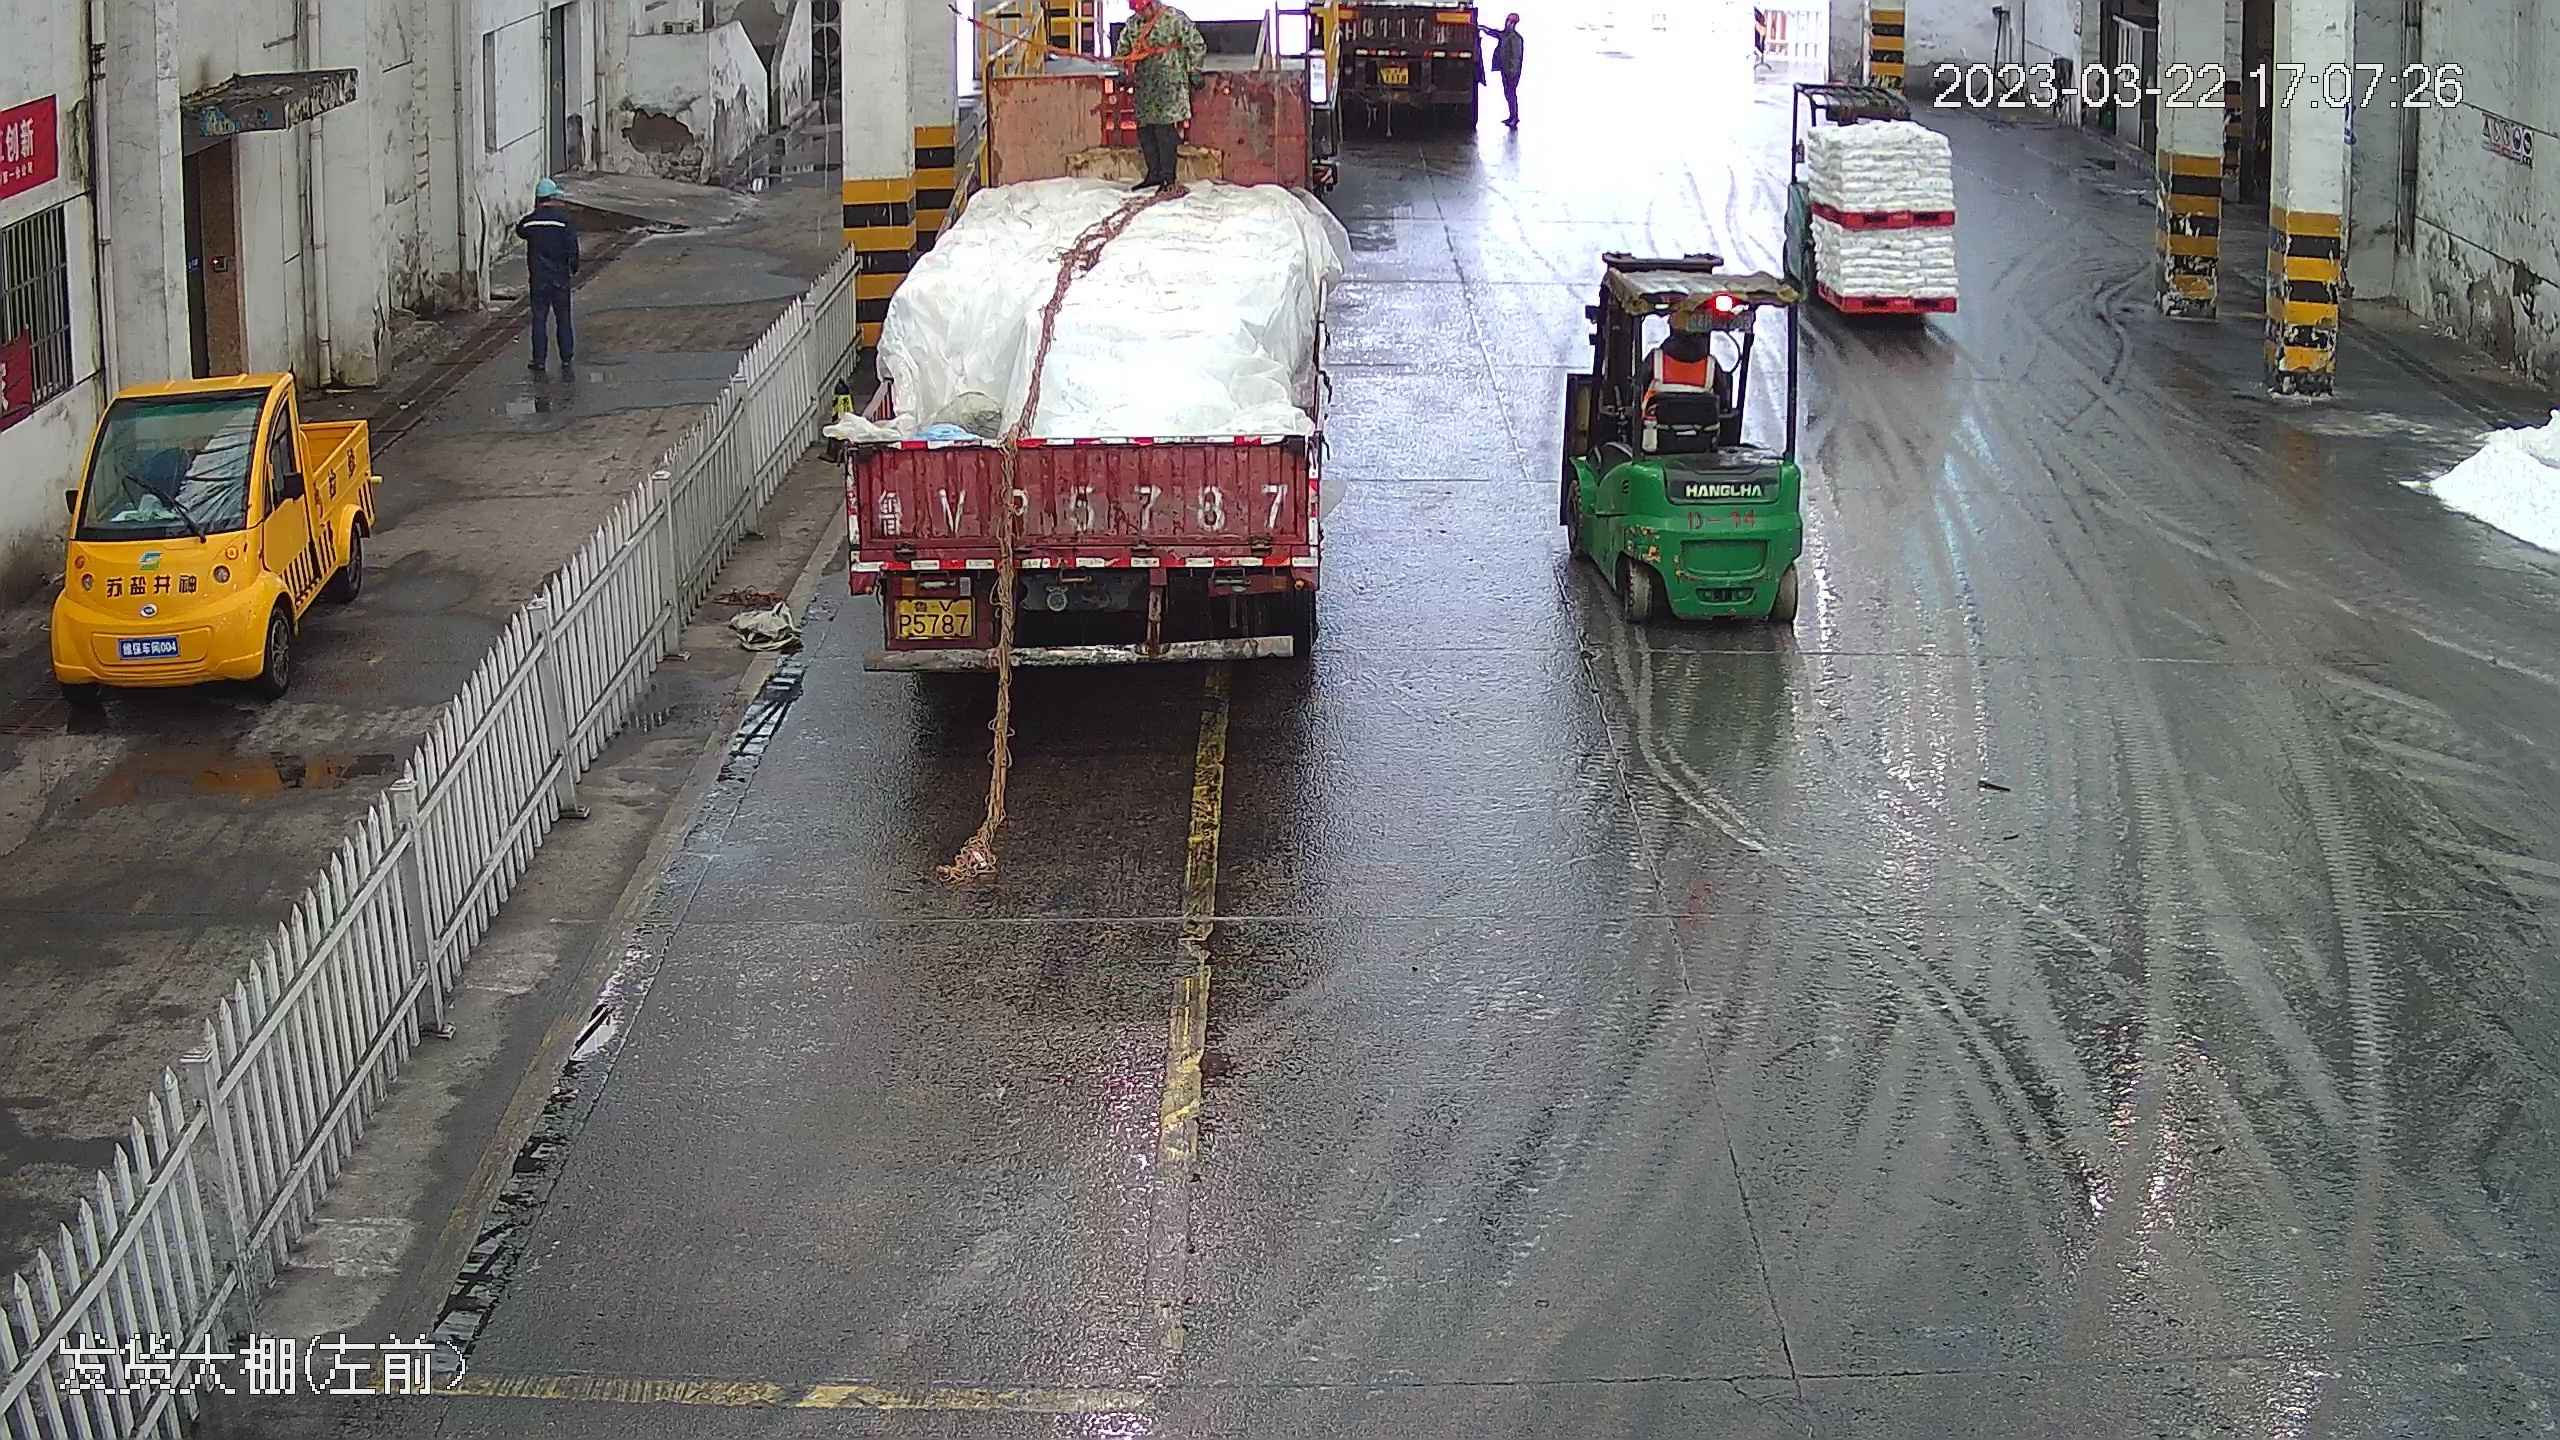belt: (1122, 10, 1176, 76)
head: (1652, 308, 1720, 377), (520, 173, 580, 240), (1497, 6, 1530, 43)
helmet: (537, 174, 568, 199), (1506, 10, 1520, 25)
people: (514, 168, 586, 402), (1114, 6, 1201, 197), (1493, 11, 1530, 124)
truck: (849, 3, 1348, 684)
